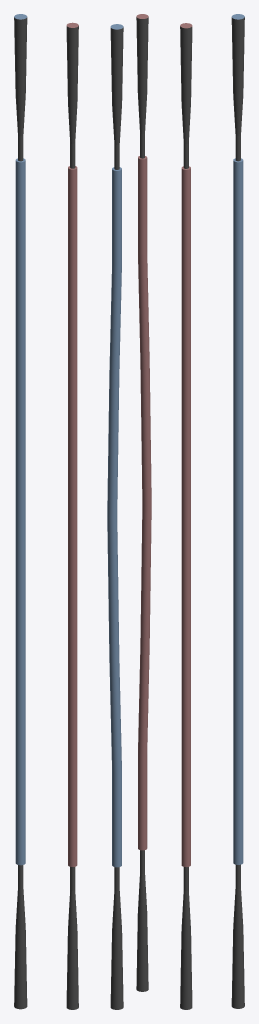
Rendered from WiresForBattery.fbx.
The picture shows the model from 3 angles, left to right: view 1: azimuth 90°, elevation 25°; view 2: azimuth 150°, elevation 25°; view 3: azimuth 270°, elevation 25°; orthographic projection.
Visible parts, largest first — view 1: polySurface138, polySurface143; view 2: polySurface138, polySurface143; view 3: polySurface138, polySurface143.
Boxes of the visible parts, bbox=[...] form: polySurface138: bbox=[14, 14, 27, 1009]; polySurface143: bbox=[66, 22, 78, 1009]; polySurface138: bbox=[107, 24, 123, 1009]; polySurface143: bbox=[136, 14, 151, 991]; polySurface138: bbox=[231, 14, 244, 1008]; polySurface143: bbox=[180, 23, 192, 1009].
Bounding box in the file's own units: 0.1379 × 7.41 × 0.4393.
